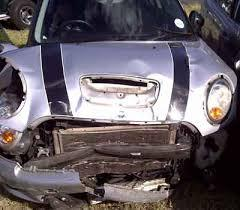Bonnet: (2, 37, 233, 133)
Bumper: (0, 121, 240, 210)
Light: (0, 51, 28, 121)
